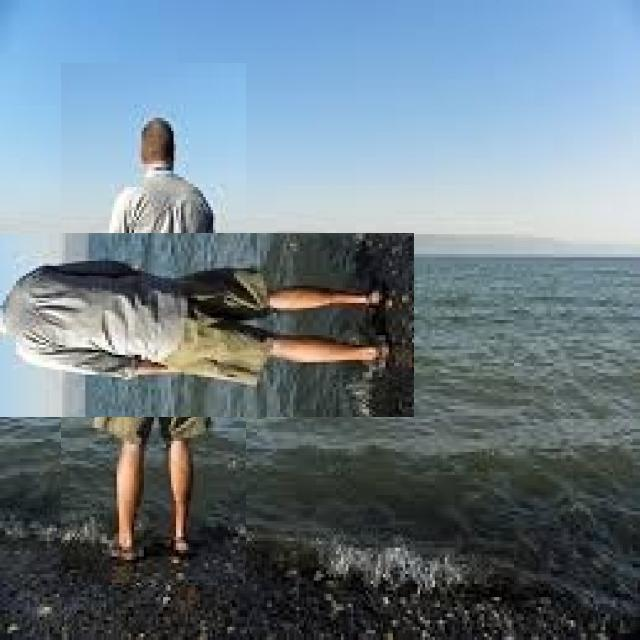NotFall: (0, 223, 429, 403)
